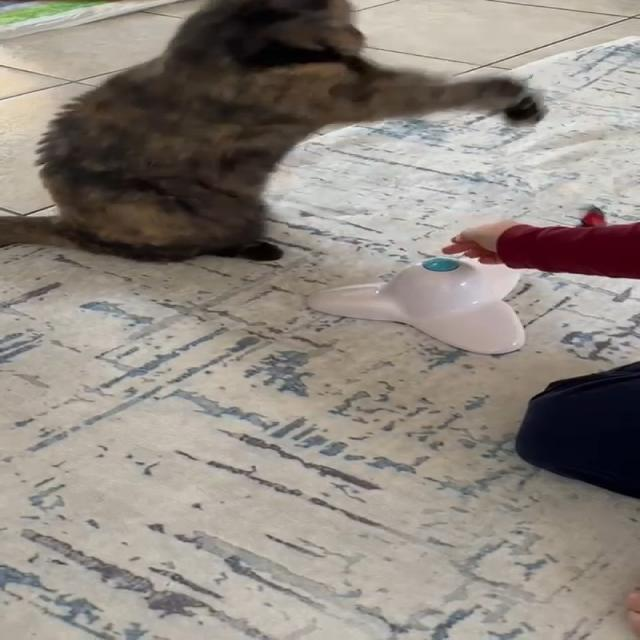authorized: (0, 0, 541, 263)
